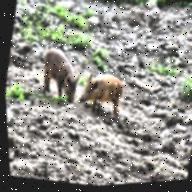boar: (17, 14, 100, 110), (69, 54, 147, 138)
